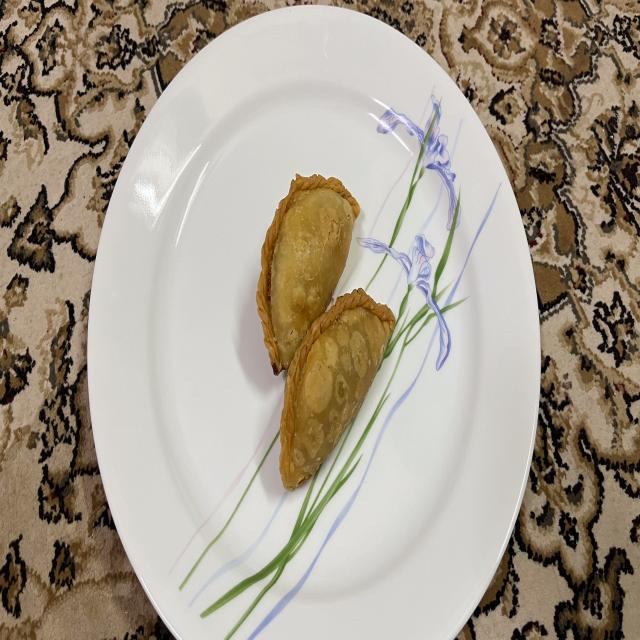karipap: (280, 289, 395, 489), (256, 176, 360, 373)
